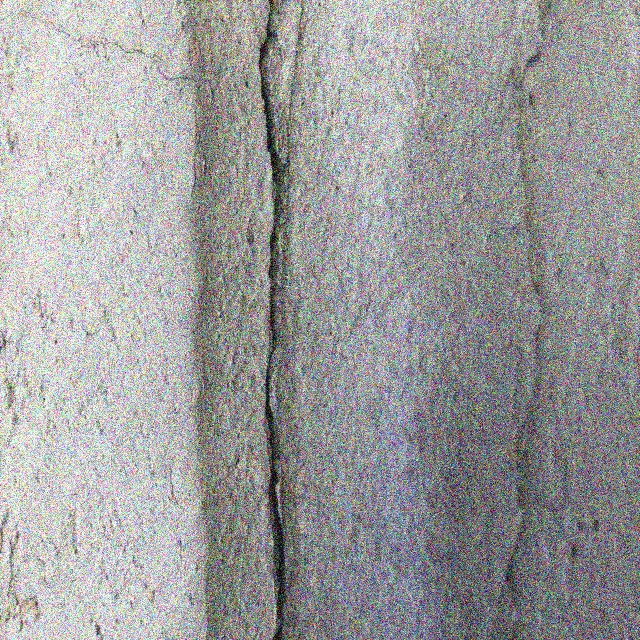SurfaceCrack: (198, 0, 347, 640), (1, 1, 197, 98)
